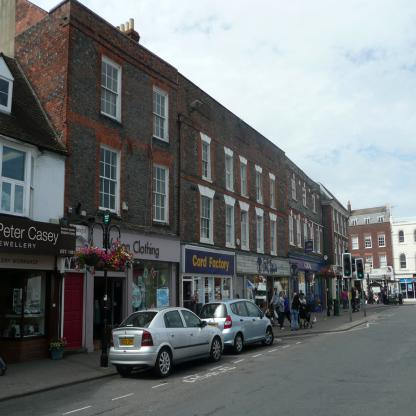Car: (109, 298, 225, 378), (198, 299, 274, 354)
